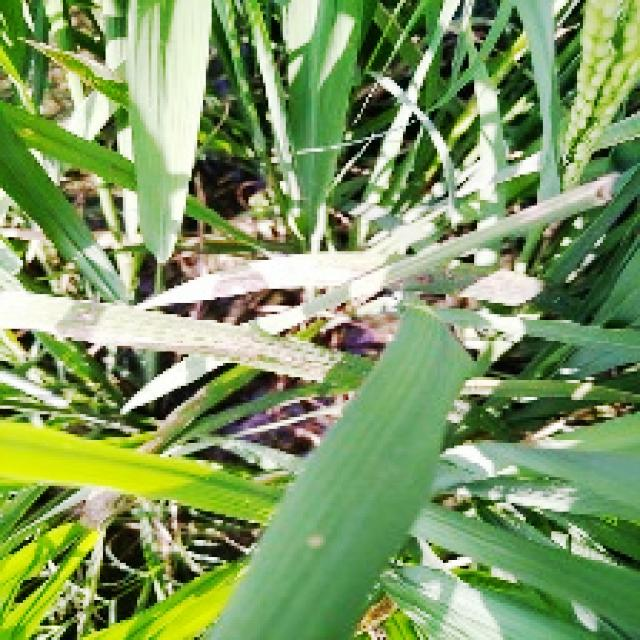health: (0, 395, 325, 640)
